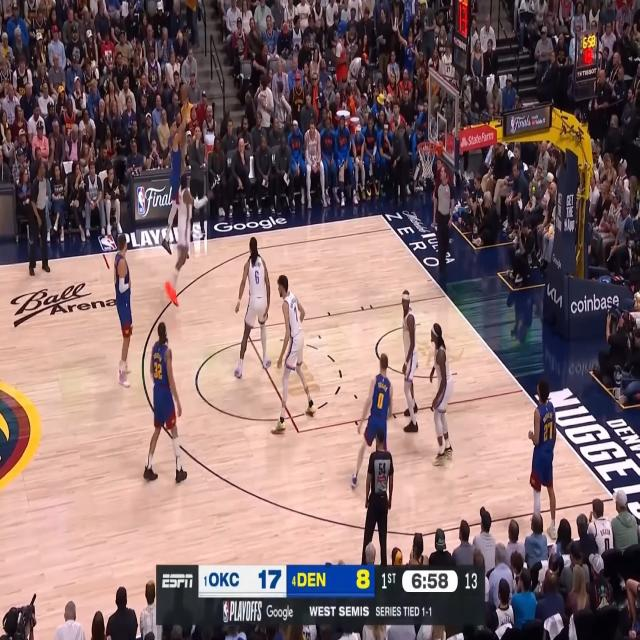ball: (181, 83, 189, 100)
number: (153, 360, 163, 381), (544, 422, 553, 442), (253, 268, 260, 286), (377, 390, 383, 411), (293, 305, 299, 324)
player: (142, 322, 188, 484), (271, 274, 316, 434), (352, 352, 394, 490), (233, 238, 273, 382), (528, 381, 558, 541), (113, 232, 136, 390), (429, 320, 454, 465), (398, 288, 421, 431)
player-jump-shot: (160, 82, 189, 263)
player-shot-block: (164, 126, 214, 308)
referee: (361, 427, 395, 565), (28, 157, 52, 277), (432, 163, 455, 280)
rim: (417, 138, 438, 155)
